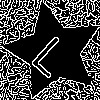L: (28, 27, 81, 80)
